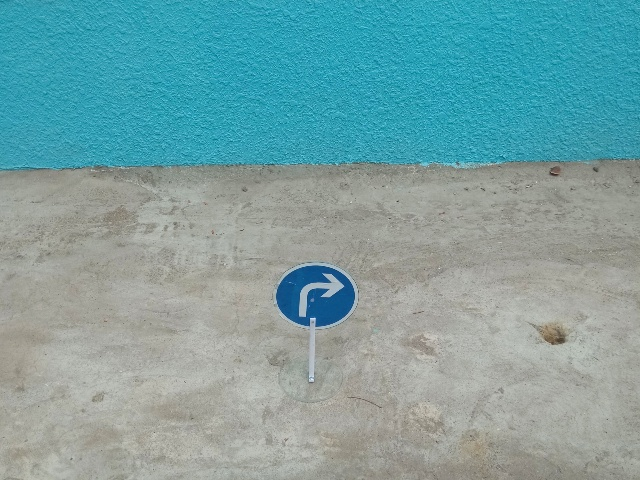Right_Sign: (273, 263, 362, 329)
